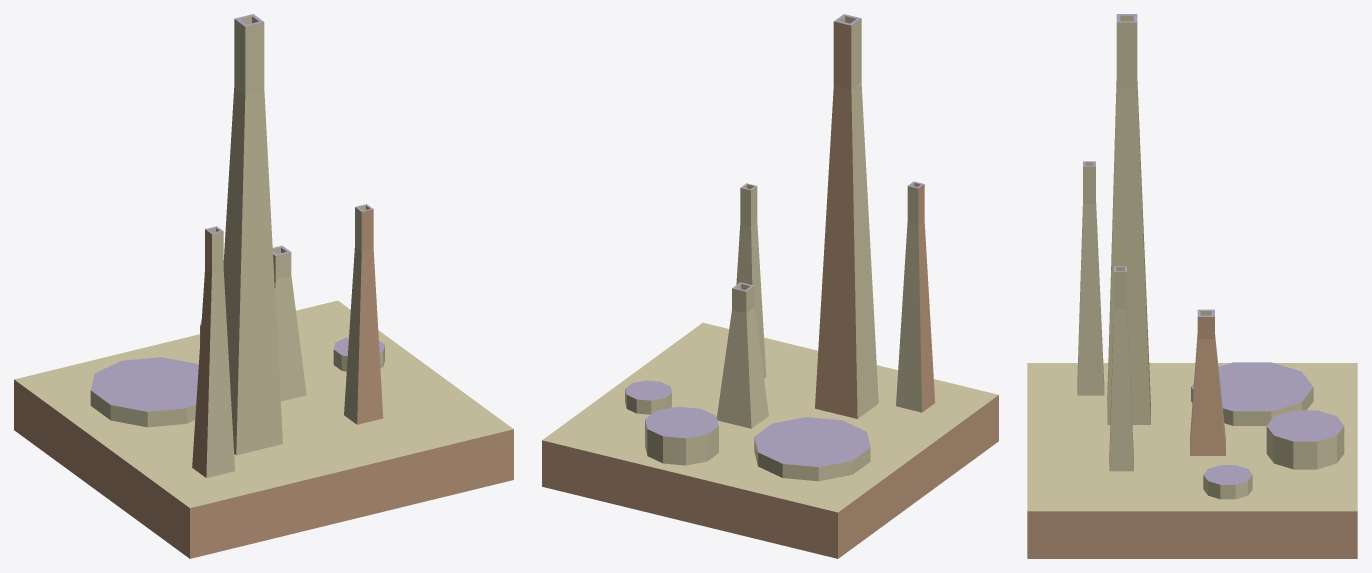
Rendered from nuclear_power_station.glb.
The picture shows the model from 3 angles, left to right: view 1: azimuth 30°, elevation 25°; view 2: azimuth 150°, elevation 25°; view 3: azimuth 270°, elevation 25°; orthographic projection. The views are drawn at different scales.
Visible parts, largest first — view 1: Cylinder.030; view 2: Cylinder.030; view 3: Cylinder.030.
Boxes of the visible parts, x1,y1,x2,y2 form: Cylinder.030: [14, 14, 513, 558]; Cylinder.030: [542, 14, 998, 558]; Cylinder.030: [1027, 14, 1357, 558].
Bounding box in the file's own units: 1.58 × 2.2 × 1.49.
